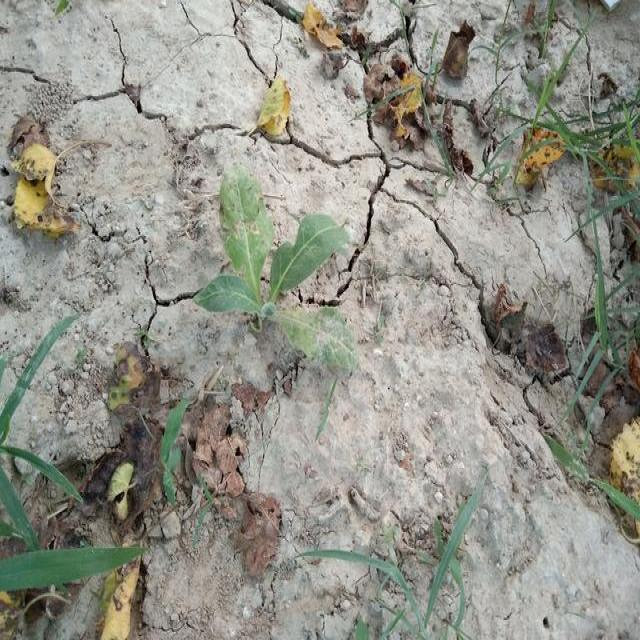crop: (202, 162, 362, 376)
